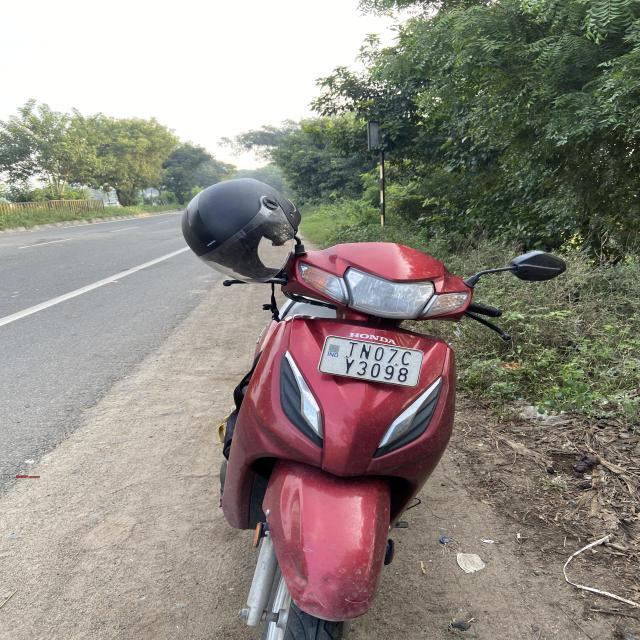plate: (317, 334, 423, 387)
